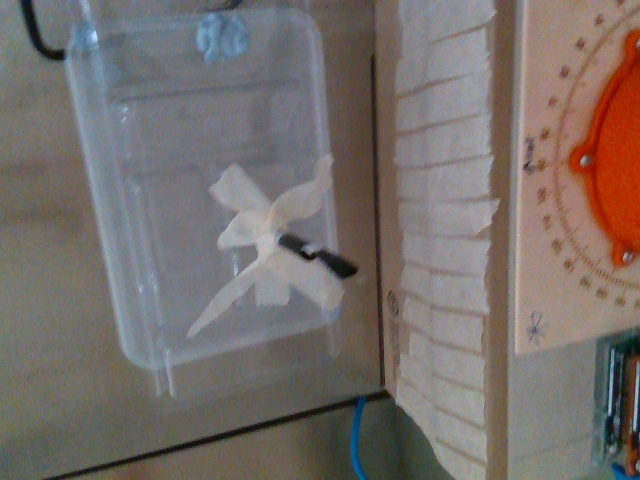test_strip: (298, 239, 358, 287)
